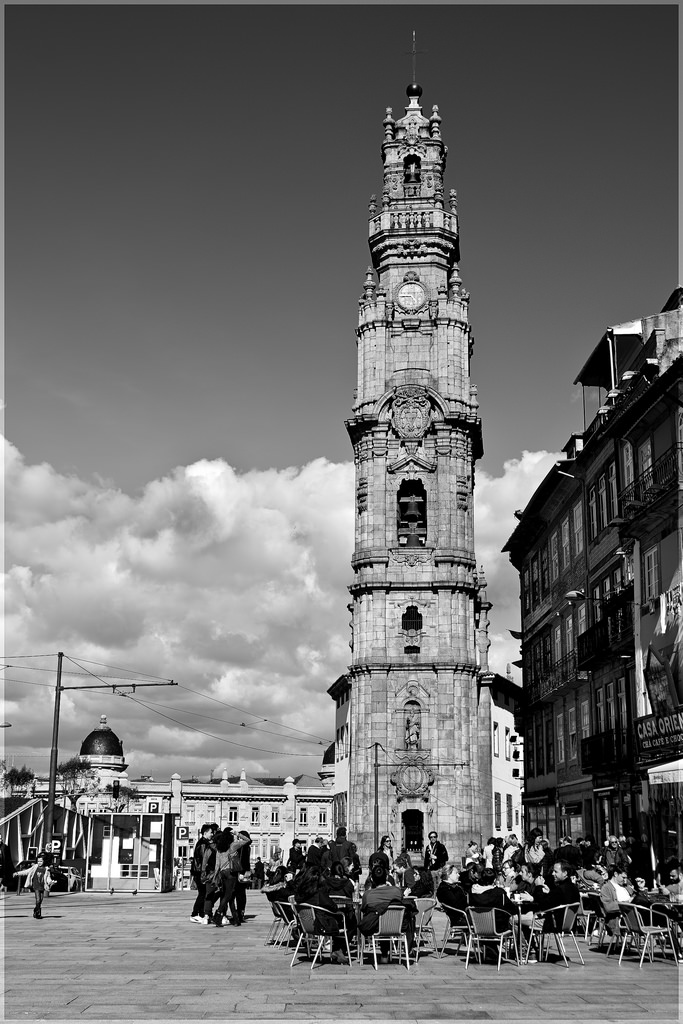clerigos: (342, 31, 494, 868)
